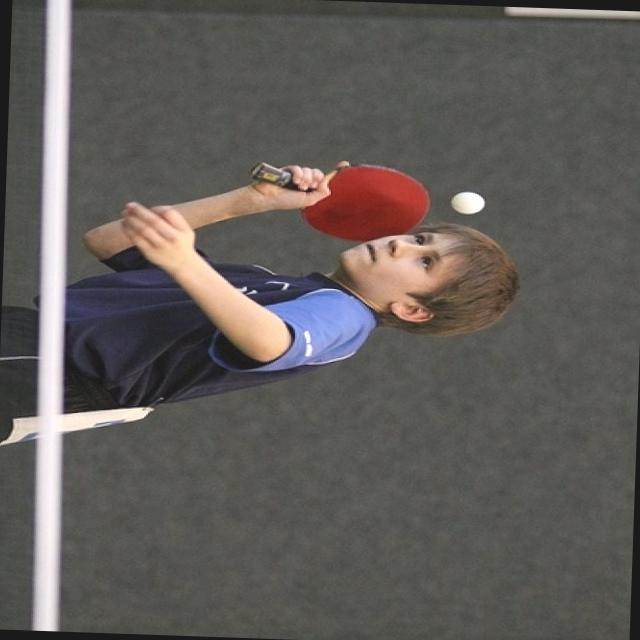TT Net: (0, 0, 79, 630)
TT Racket: (246, 158, 433, 246)
